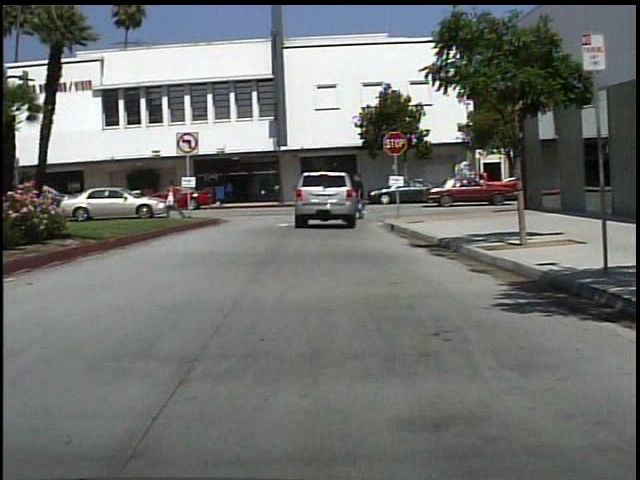person: (160, 174, 188, 220), (356, 171, 372, 225), (222, 177, 238, 205)
